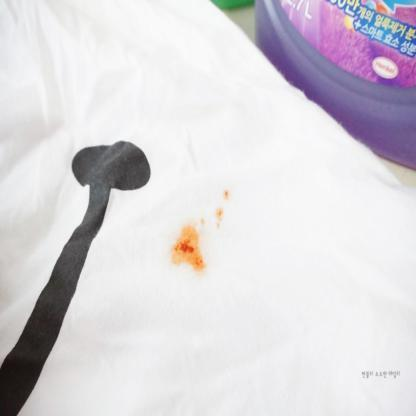kimchi: (172, 225, 209, 271), (218, 207, 226, 227), (221, 191, 229, 199)
